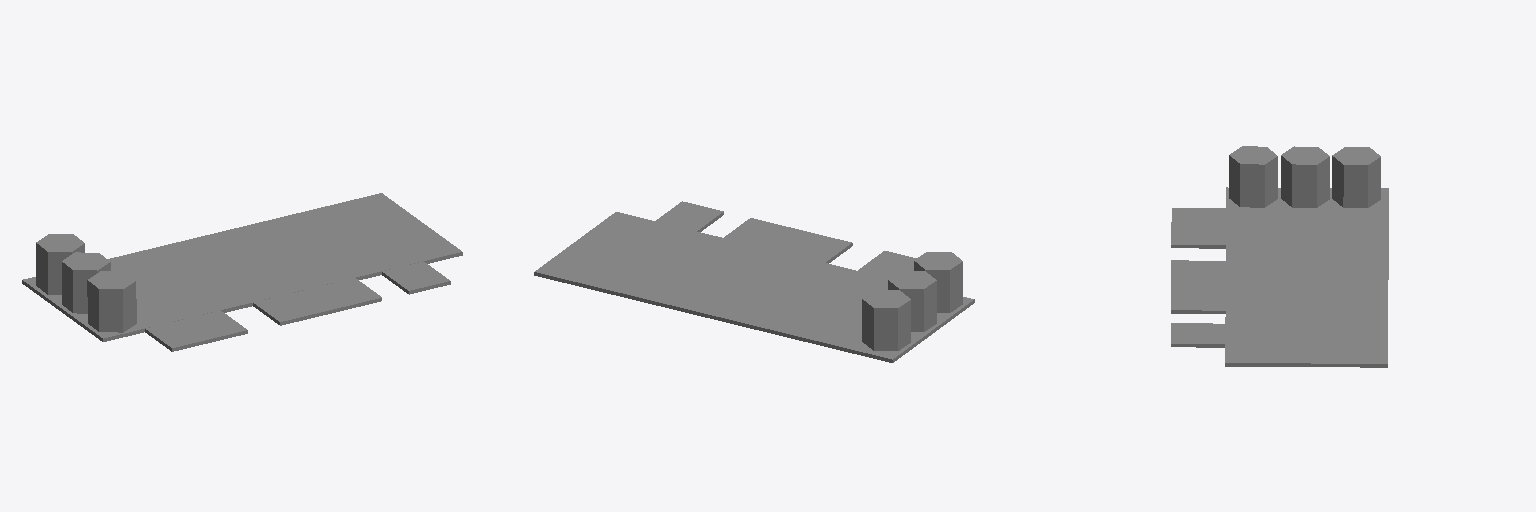
File: mmodule_green.obj
3 renders of one model, left to right at view 1: azimuth 30°, elevation 25°; view 2: azimuth 150°, elevation 25°; view 3: azimuth 270°, elevation 25°, orthographic.
Visible parts, largest first — view 1: Box02; view 2: Box02; view 3: Box02.
Part boxes in pixels (left/top/right/bottom): Box02: left=22, top=193, right=462, bottom=351; Box02: left=534, top=201, right=974, bottom=362; Box02: left=1171, top=146, right=1388, bottom=367.
Bounding box in the file's own units: 72.58 × 9.24 × 38.15.